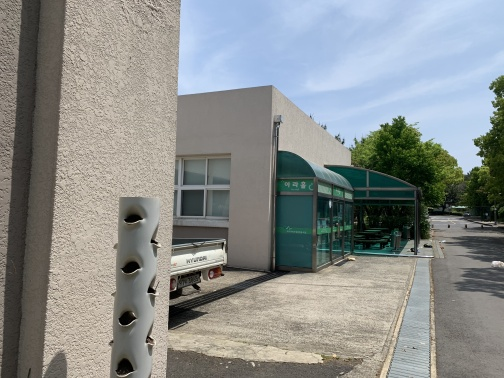Ara Hall: (203, 102, 421, 285)
